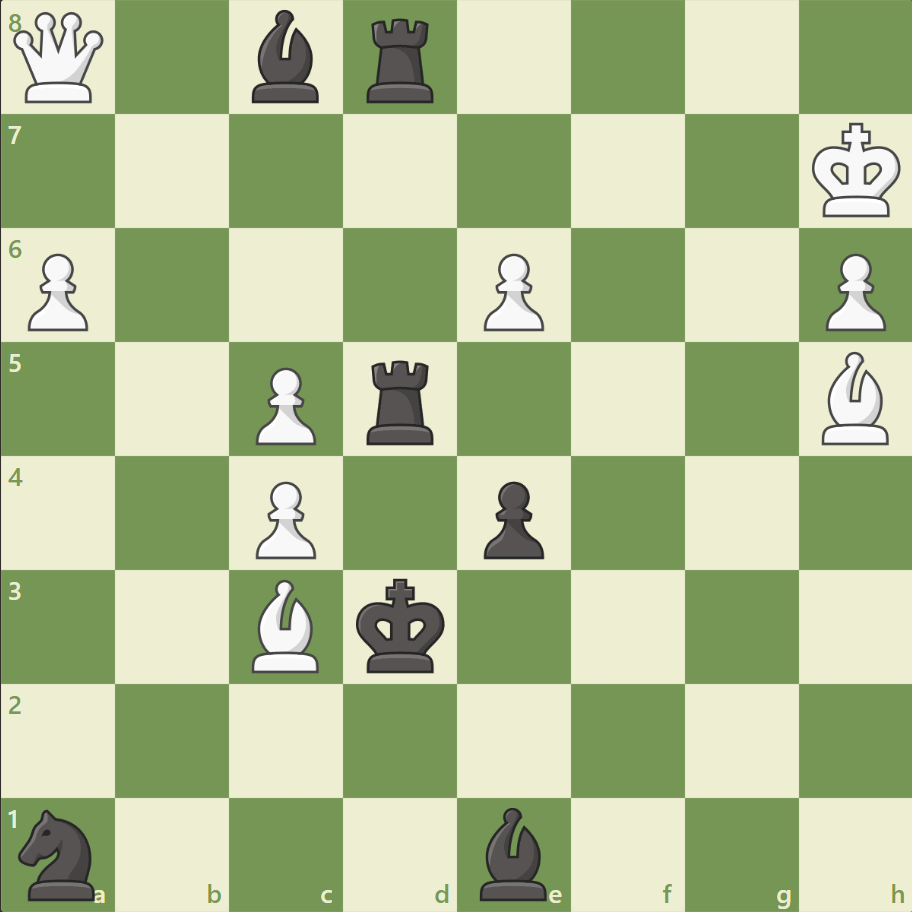B: (812, 347, 896, 449), (244, 574, 328, 676)
K: (806, 117, 906, 225)
P: (20, 246, 95, 337), (474, 246, 549, 337), (247, 359, 322, 450), (247, 473, 322, 564), (815, 246, 889, 337)
Q: (10, 9, 109, 108)
b: (244, 6, 328, 109), (471, 801, 555, 904)
k: (351, 571, 451, 679)
n: (11, 802, 108, 904)
p: (474, 473, 549, 564)
r: (360, 12, 442, 109), (360, 352, 442, 449)
